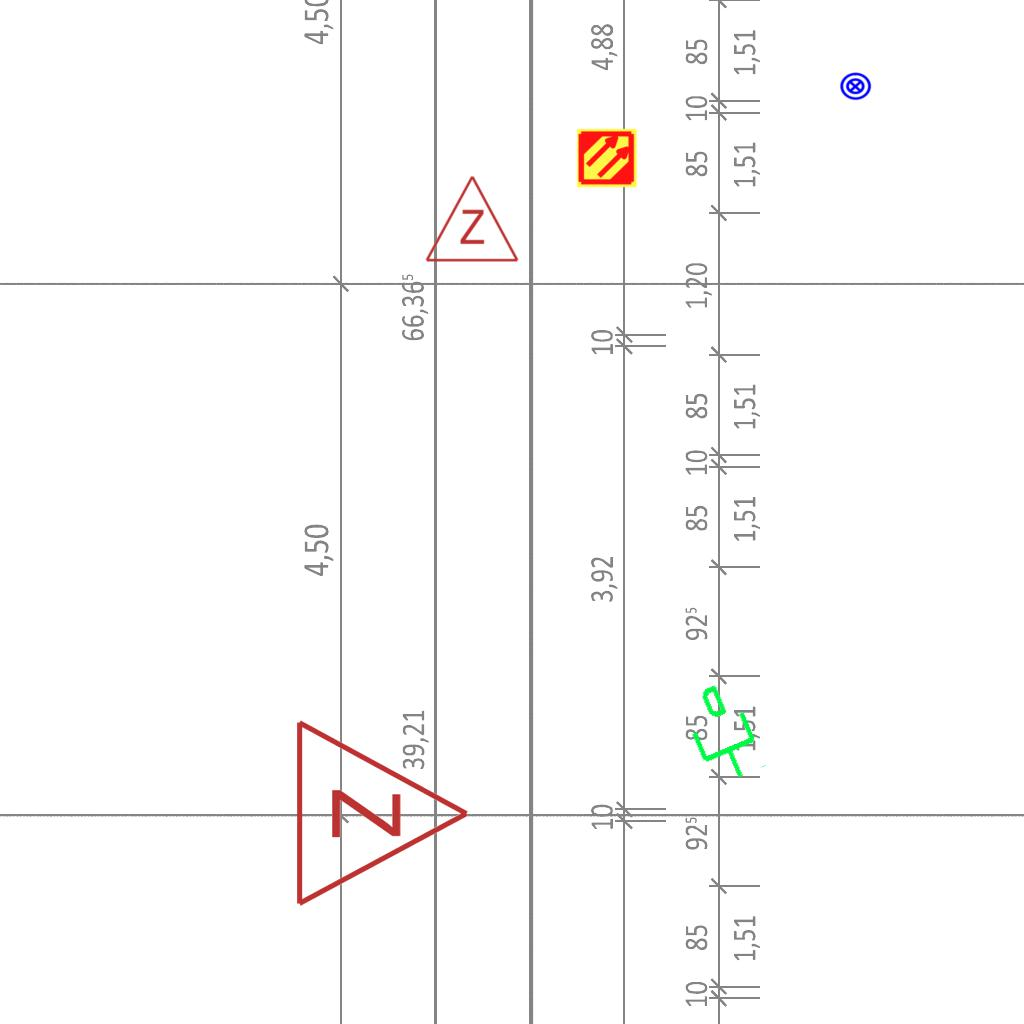ASR_Ansaugrauchmelder: (576, 127, 638, 189)
Datenanschluss_einfach: (669, 674, 772, 794)
Taster_beleuchtet: (839, 70, 872, 103)
Zimmersignalleuchte: (282, 713, 482, 909), (422, 169, 520, 269)
